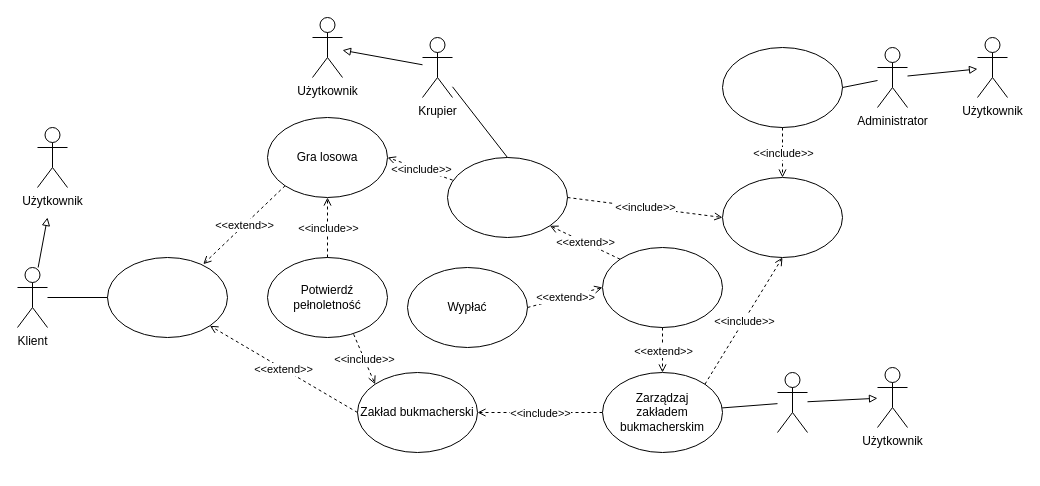
Image size: 1040x486. Some labels were removed from this diagram. The centre of each missing label's shape, as x and y in pixels:
Administruj System: the point at 782,87
Loguj się: the point at 782,217
Recepcjonista: the point at 792,402
Rozlicz: the point at 662,287
Weź udział: the point at 167,297
Zarządzaj grą losową: the point at 507,197
